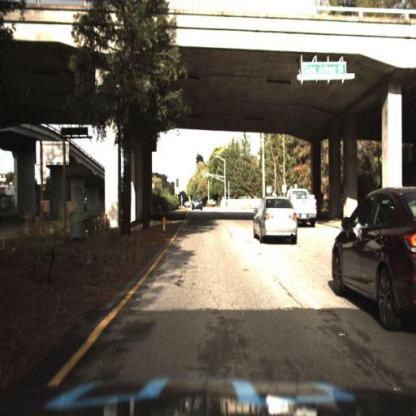car: (333, 181, 415, 319), (252, 196, 302, 246), (287, 188, 315, 224), (189, 194, 205, 210)
